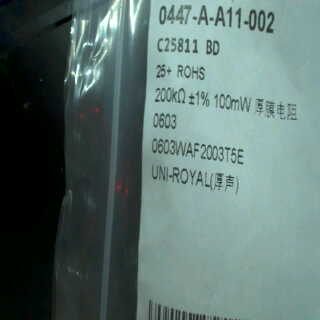200kR: (153, 83, 188, 109)
